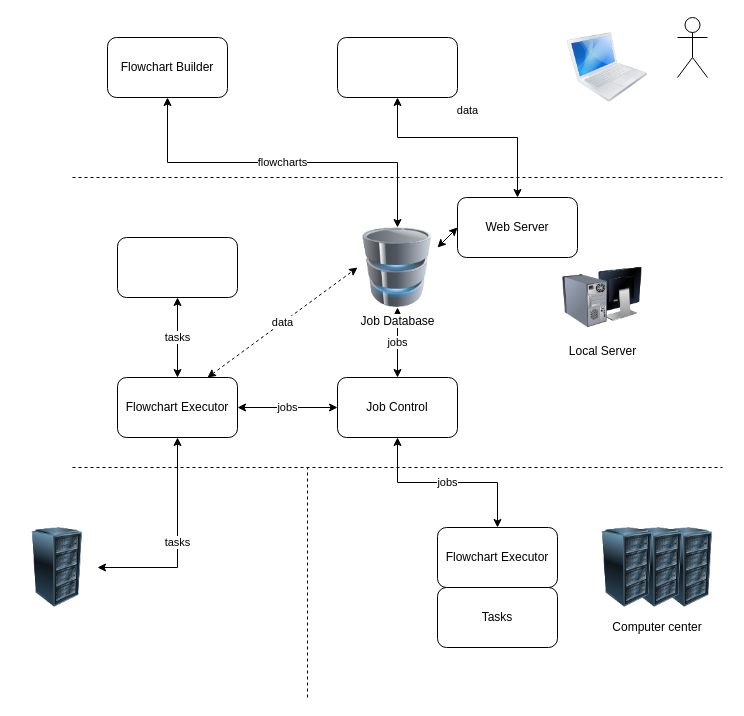
Image size: 744x716. Some labels were removed from this diagram. Each missing label, with the centre of its shape:
Actor: the point at 692,47
Local Cluster: the point at 57,567
Local Tasks: the point at 177,267
Web Browser: the point at 397,67
